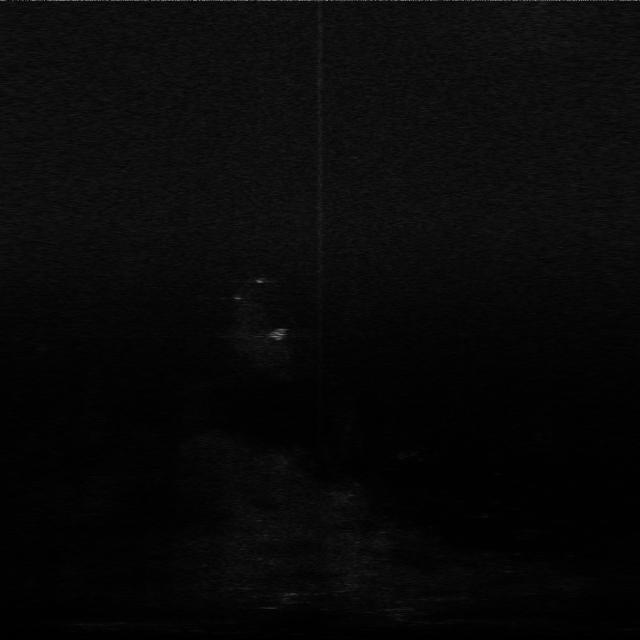rov: (268, 326, 293, 342)
